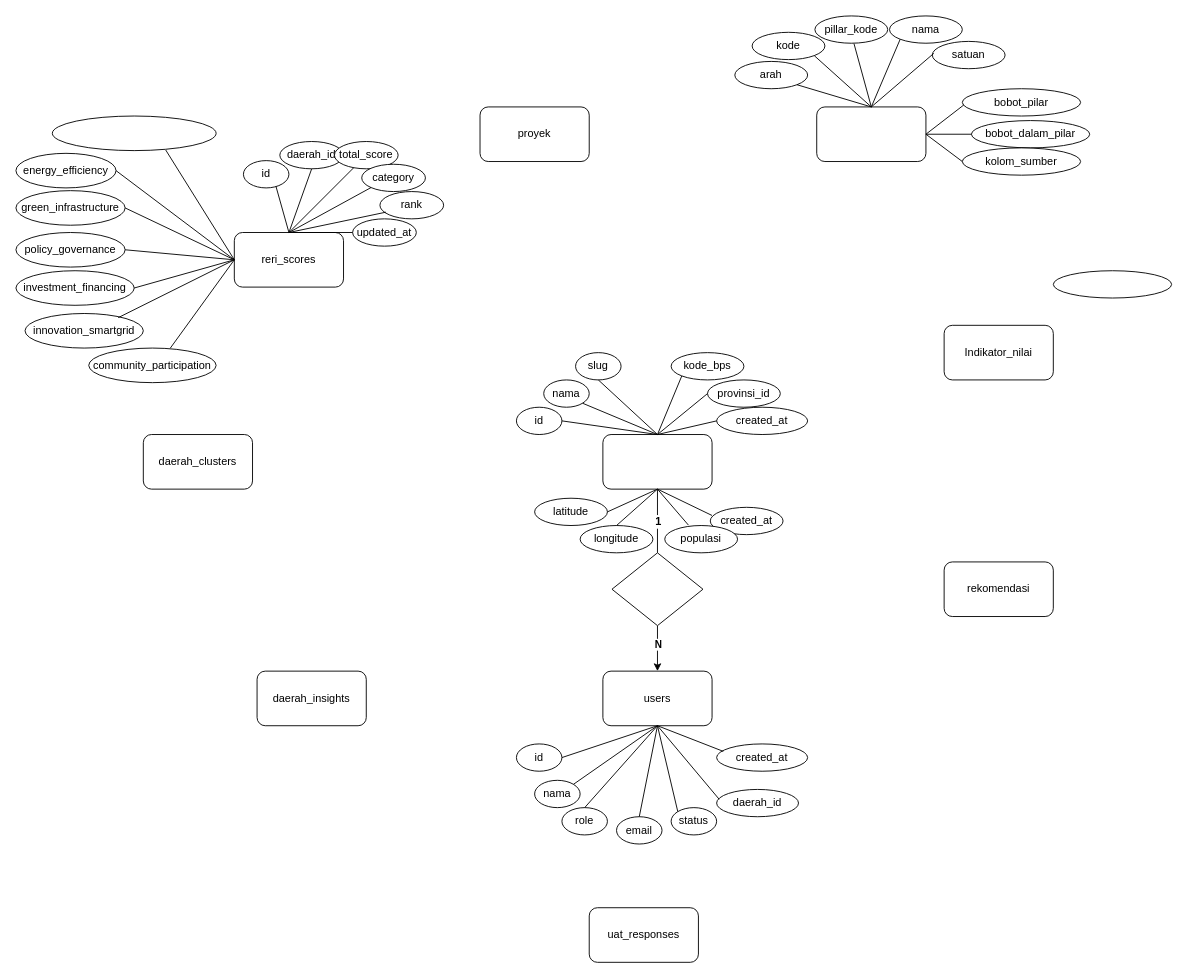
Image size: 1188x978. Some labels were removed from this diagram. Each missing label, with the centre of its shape:
daerah: the point at 657,461
Indikator: the point at 871,134
kolom_sumper: the point at 1112,284
MENGELOLA: the point at 657,589
renewable_energy_adoption: the point at 133,133
